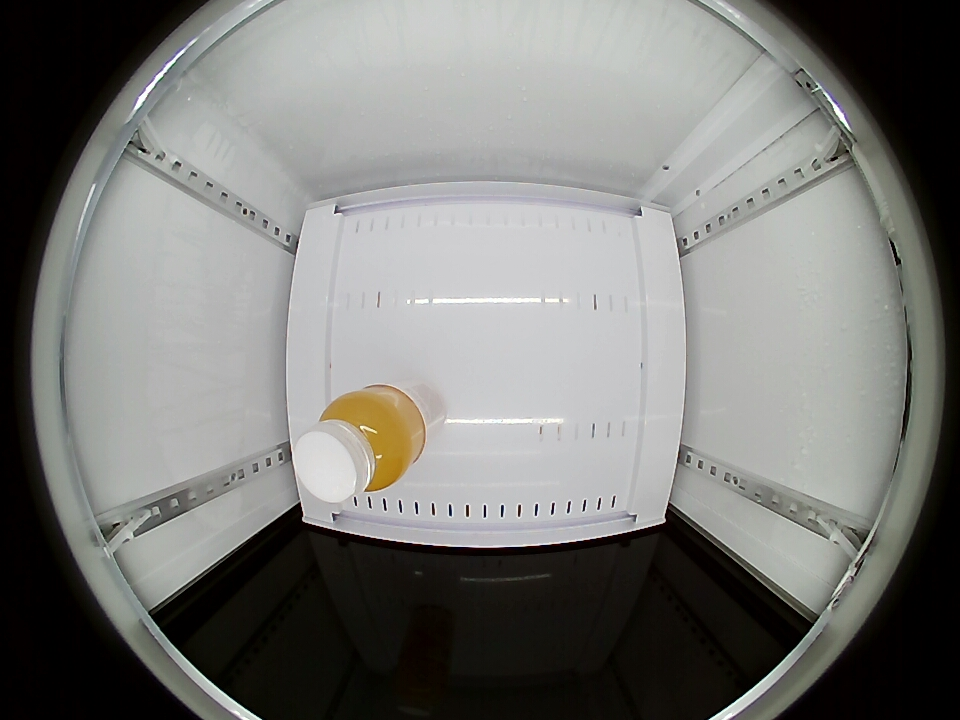weic: (294, 385, 425, 502)
